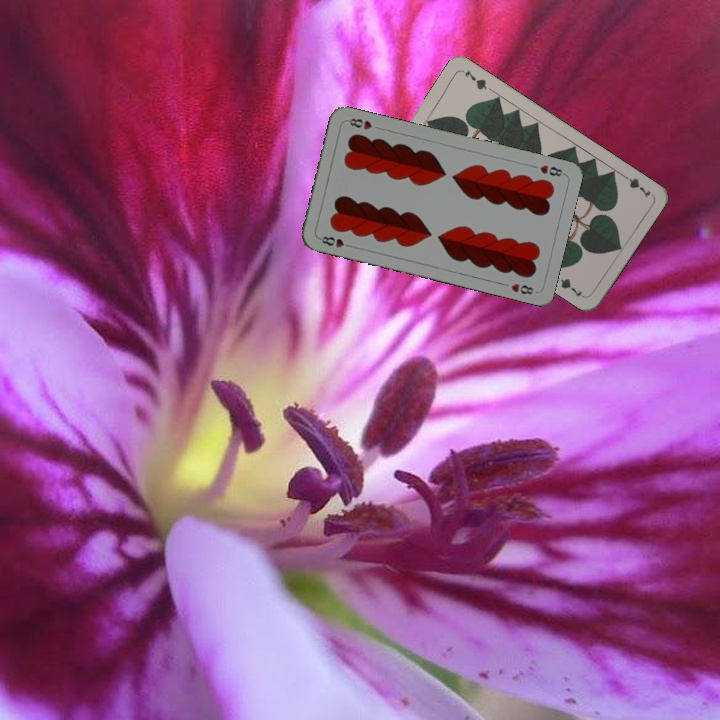G7: (617, 170, 653, 200)
H8: (315, 232, 355, 250), (536, 161, 567, 179)
